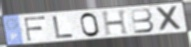0: (79, 12, 101, 38)
B: (129, 7, 156, 35)
F: (23, 15, 47, 42)
H: (100, 8, 131, 37)
L: (51, 15, 76, 39)
X: (154, 5, 184, 33)
